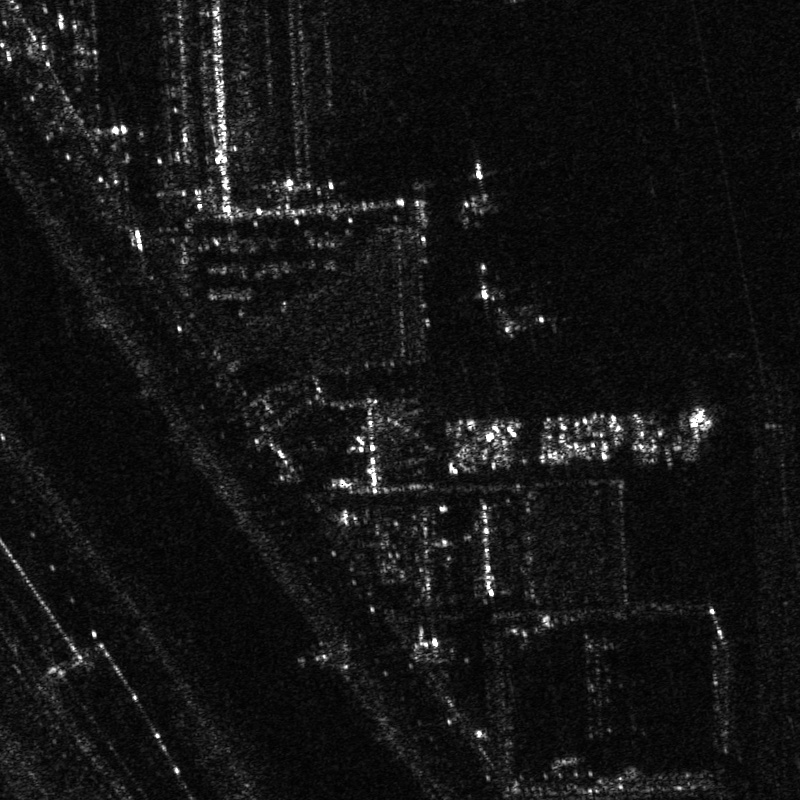A220: (484, 282, 578, 346)
